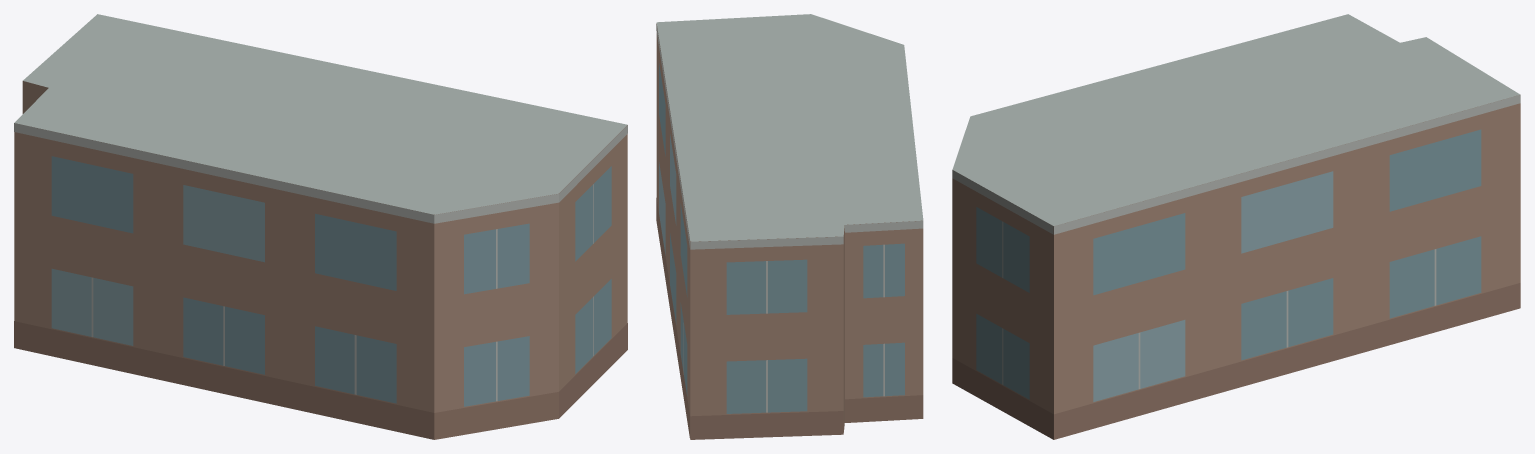
The model's file is survey-upis-32585678.glb.
3 views of the same model, side by side, from view 1: azimuth 30°, elevation 25°; view 2: azimuth 150°, elevation 25°; view 3: azimuth 270°, elevation 25° (orthographic). The views are drawn at different scales.
Visible parts, largest first — view 1: survey-upis-32585678.tmp; view 2: survey-upis-32585678.tmp; view 3: survey-upis-32585678.tmp.
Boxes of the visible parts, x1=… form: survey-upis-32585678.tmp: x1=14, y1=14, x2=627, y2=439; survey-upis-32585678.tmp: x1=656, y1=14, x2=923, y2=439; survey-upis-32585678.tmp: x1=952, y1=14, x2=1520, y2=439.
Bounding box in the file's own units: 13.01 × 6.1 × 14.72.
